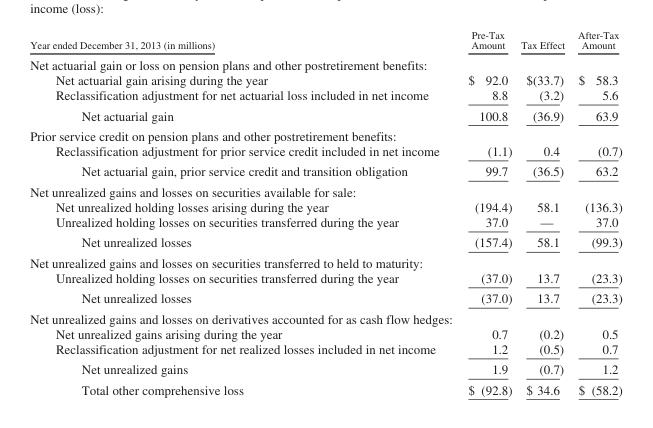table: (29, 28, 621, 396)
table column: (29, 28, 453, 396), (453, 28, 515, 396), (515, 28, 570, 396), (570, 28, 621, 396)
table column header: (29, 28, 621, 53)
table projected row header: (29, 53, 621, 72), (29, 125, 621, 143), (29, 252, 621, 270), (29, 181, 621, 198), (29, 308, 621, 325)
table row: (29, 28, 621, 53), (29, 104, 621, 125), (29, 160, 621, 181), (29, 231, 621, 252), (29, 287, 621, 308), (29, 358, 621, 379), (29, 53, 621, 72), (29, 125, 621, 143), (29, 252, 621, 270), (29, 87, 621, 104), (29, 143, 621, 160), (29, 181, 621, 198), (29, 214, 621, 231), (29, 270, 621, 287), (29, 308, 621, 325), (29, 341, 621, 358), (29, 379, 621, 396), (29, 198, 621, 214), (29, 325, 621, 341), (29, 72, 621, 87)
